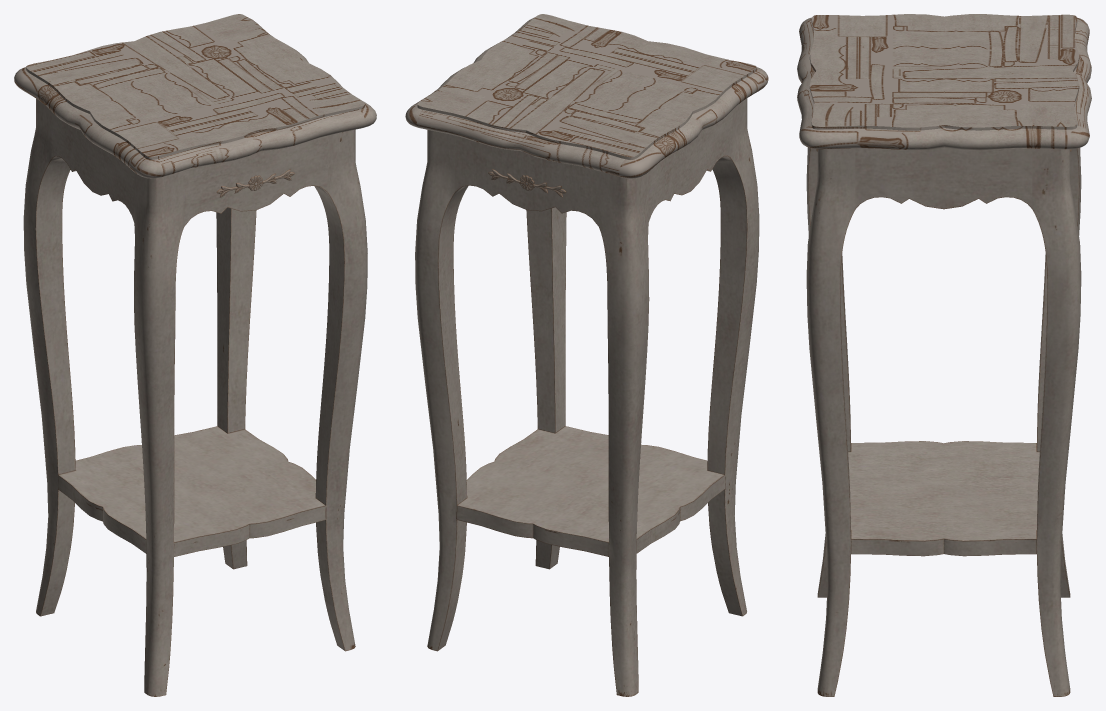
Rendered from example80.gltf.
3 renders of one model, left to right at view 1: azimuth 30°, elevation 25°; view 2: azimuth 150°, elevation 25°; view 3: azimuth 270°, elevation 25°, orthographic. The views are drawn at different scales.
Bounding box in the file's own units: 34.95 × 75 × 34.99.
Materials: 2 (2 with a texture image).
